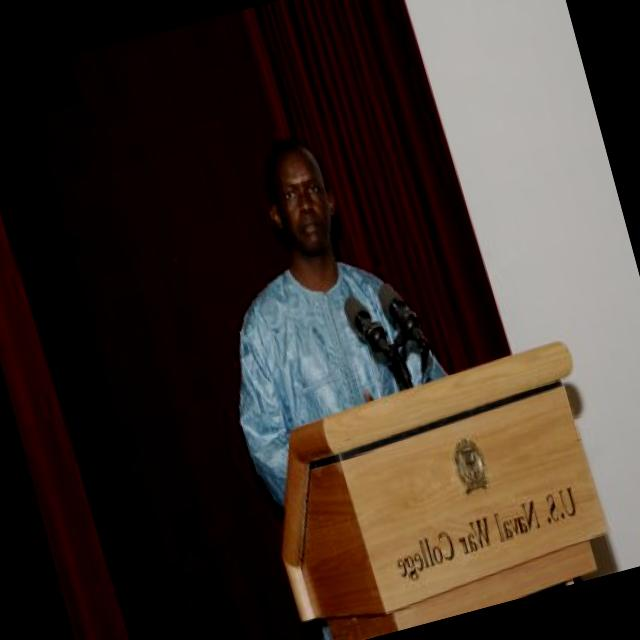Person: (172, 119, 469, 504)
